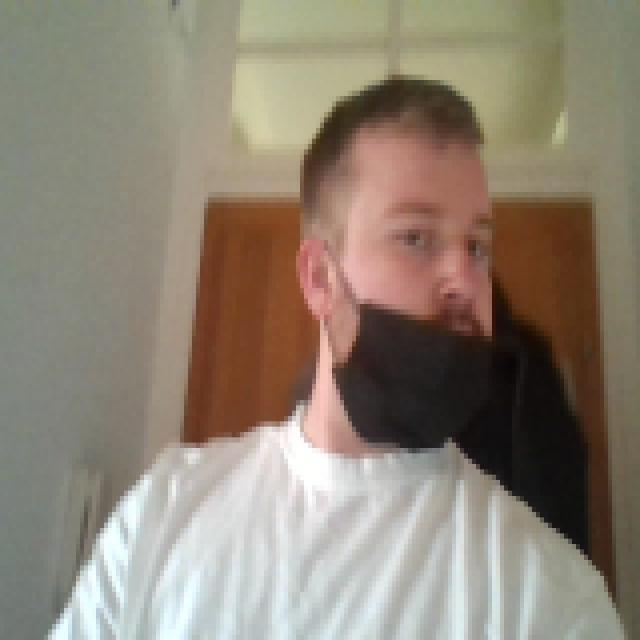hairnet: (288, 240, 508, 453)
